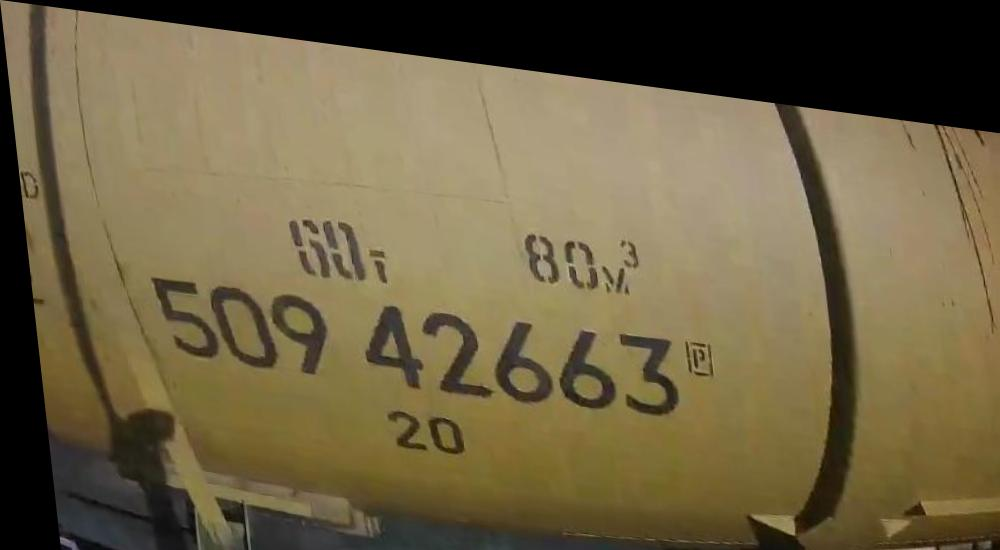Wagon-number: (137, 260, 682, 414)
